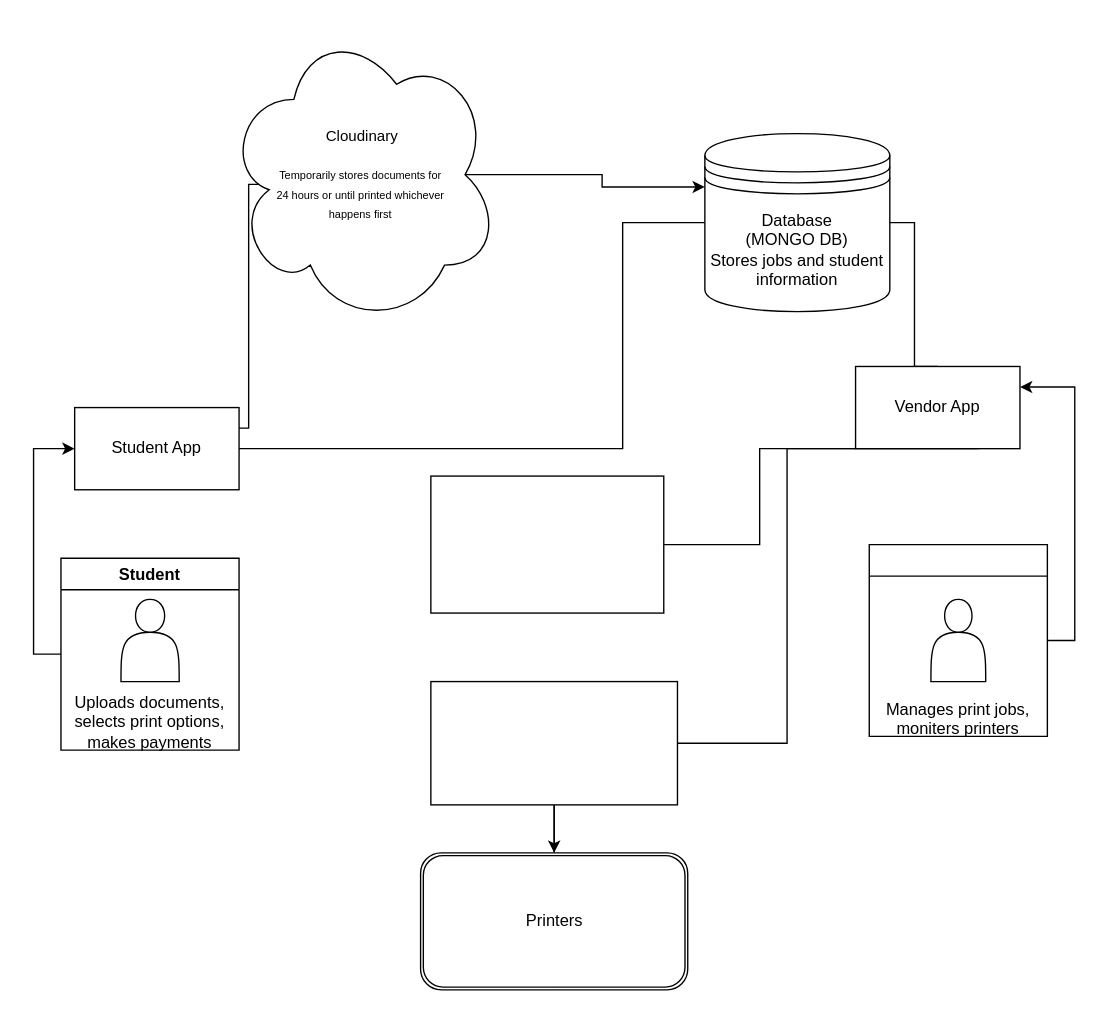
This 1110x1025 diagram has some shape labels left out. The shapes that lost their labels are listed below. From the top down, each one's box as (x1, y1, x2, y2) in pixels, then its label:
(429, 475, 664, 613): Payment Gateway (Third party API) processes payments
(868, 543, 1047, 736): Vendor
(429, 680, 677, 805): Printer Spooler API handles print jobs and communicates with printers
